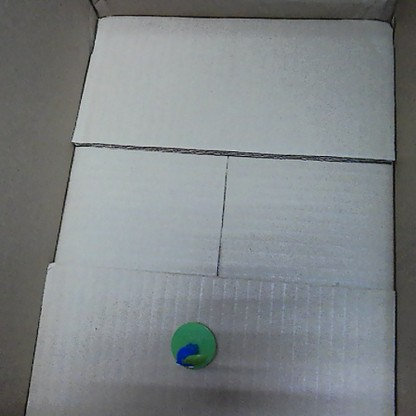leafairy: (166, 318, 219, 371)
